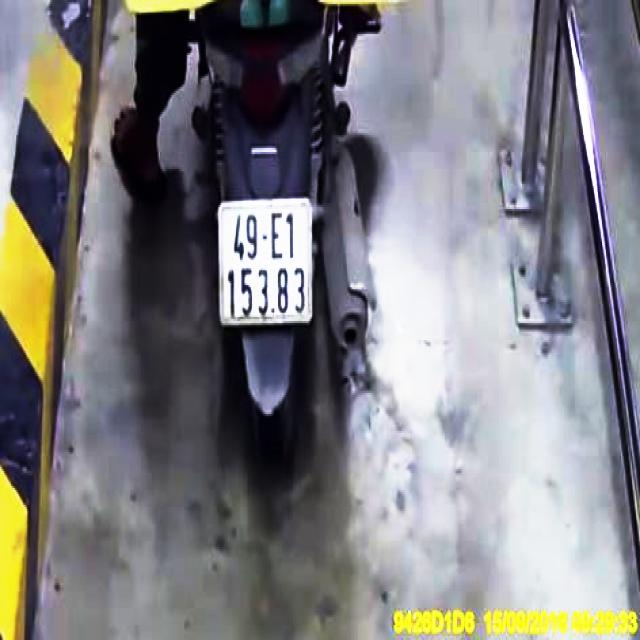license_plate: (220, 206, 310, 325)
